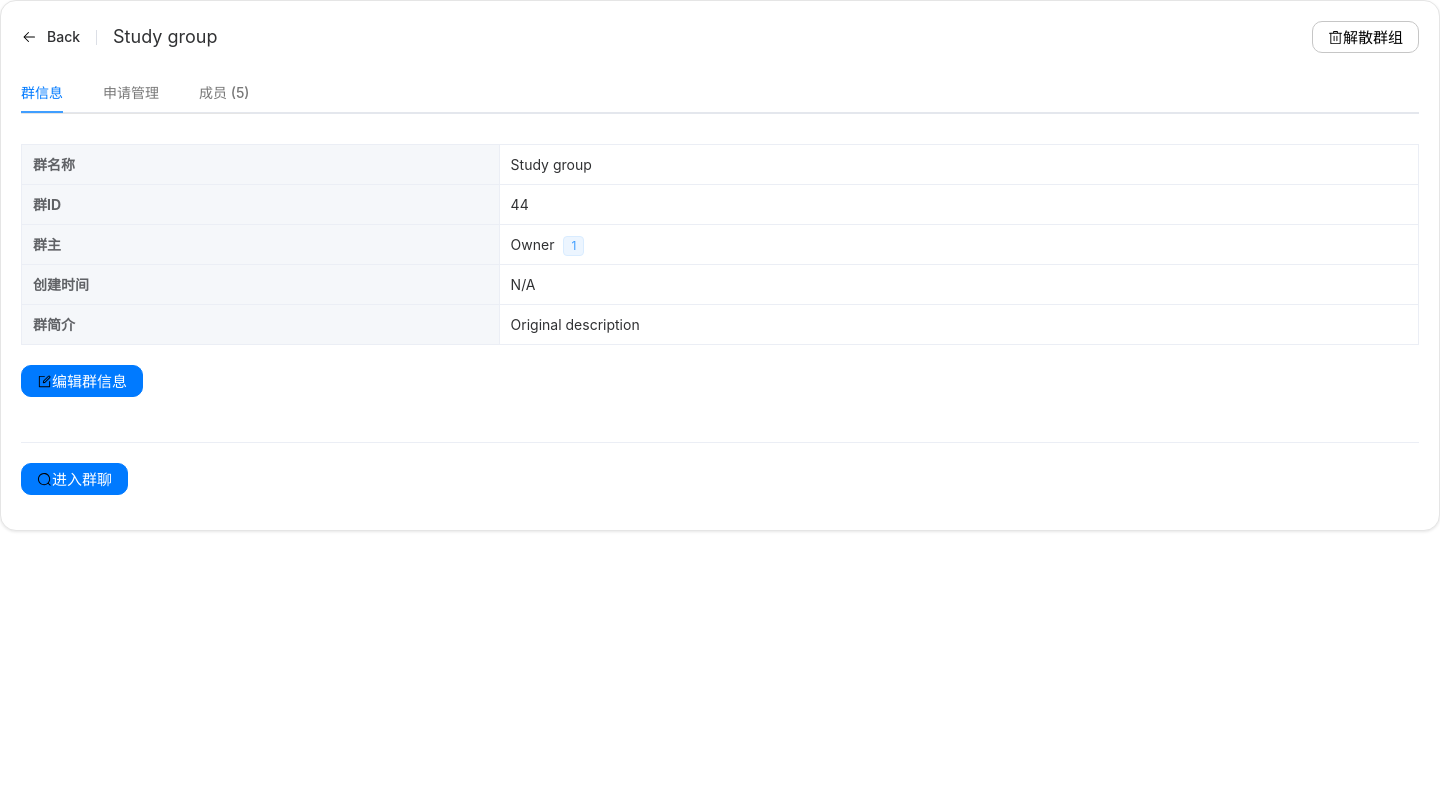
Test: group detail API contracts › loads, edits and submits groupDescription without losing the API field
This screenshot has width=1440, height=810.
Expected: the element with class "group-info-desc" shows "Original description", 511,316 -> 640,333
Click the button "编辑群信息". click: (82, 381)
box: 21,365 -> 143,397
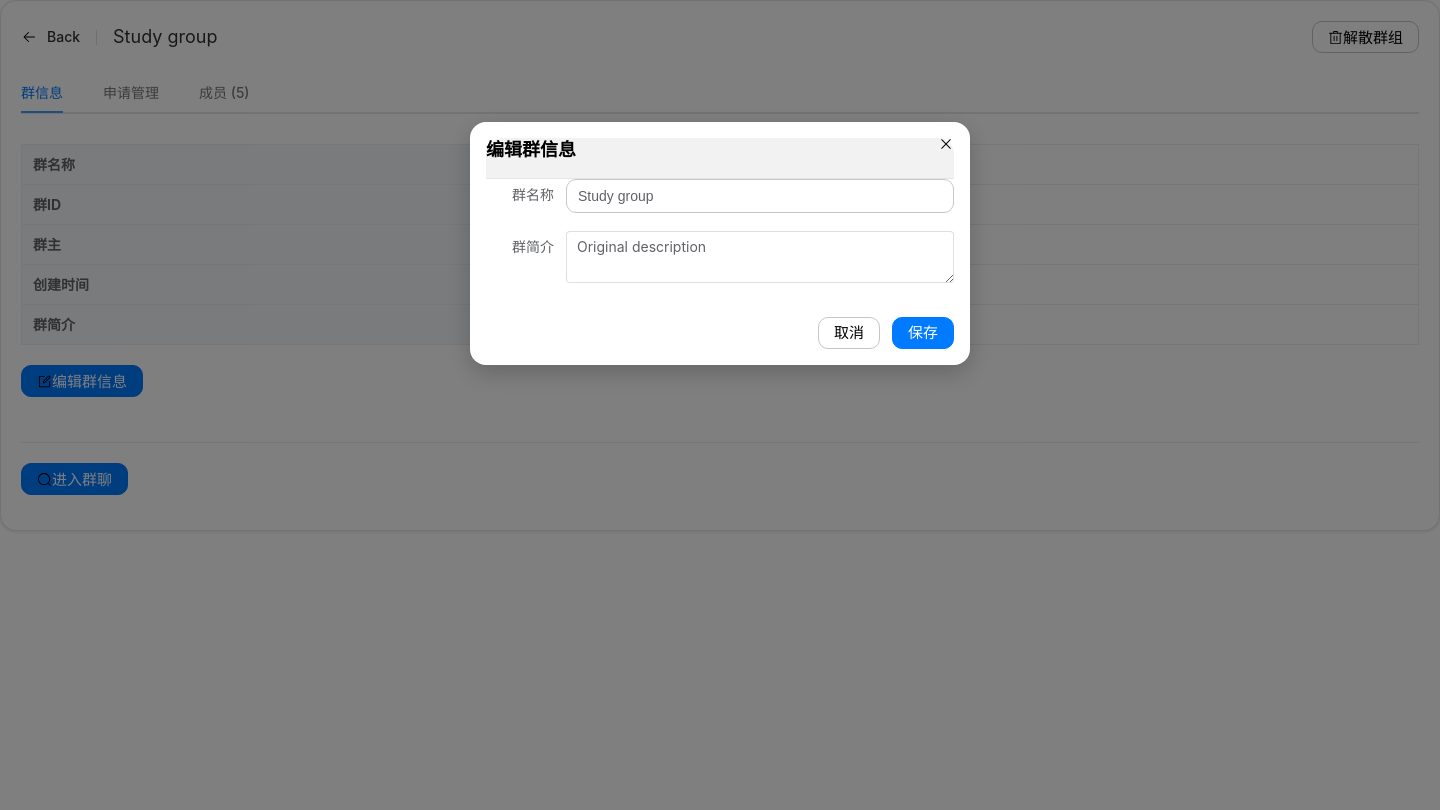
Expected: the text box labelled "群简介" holds "Original description", 566,230 -> 954,282
Replace the text in the field labelled "群名称" with "Updated study group". click: (760, 196)
box: 578,180 -> 942,210
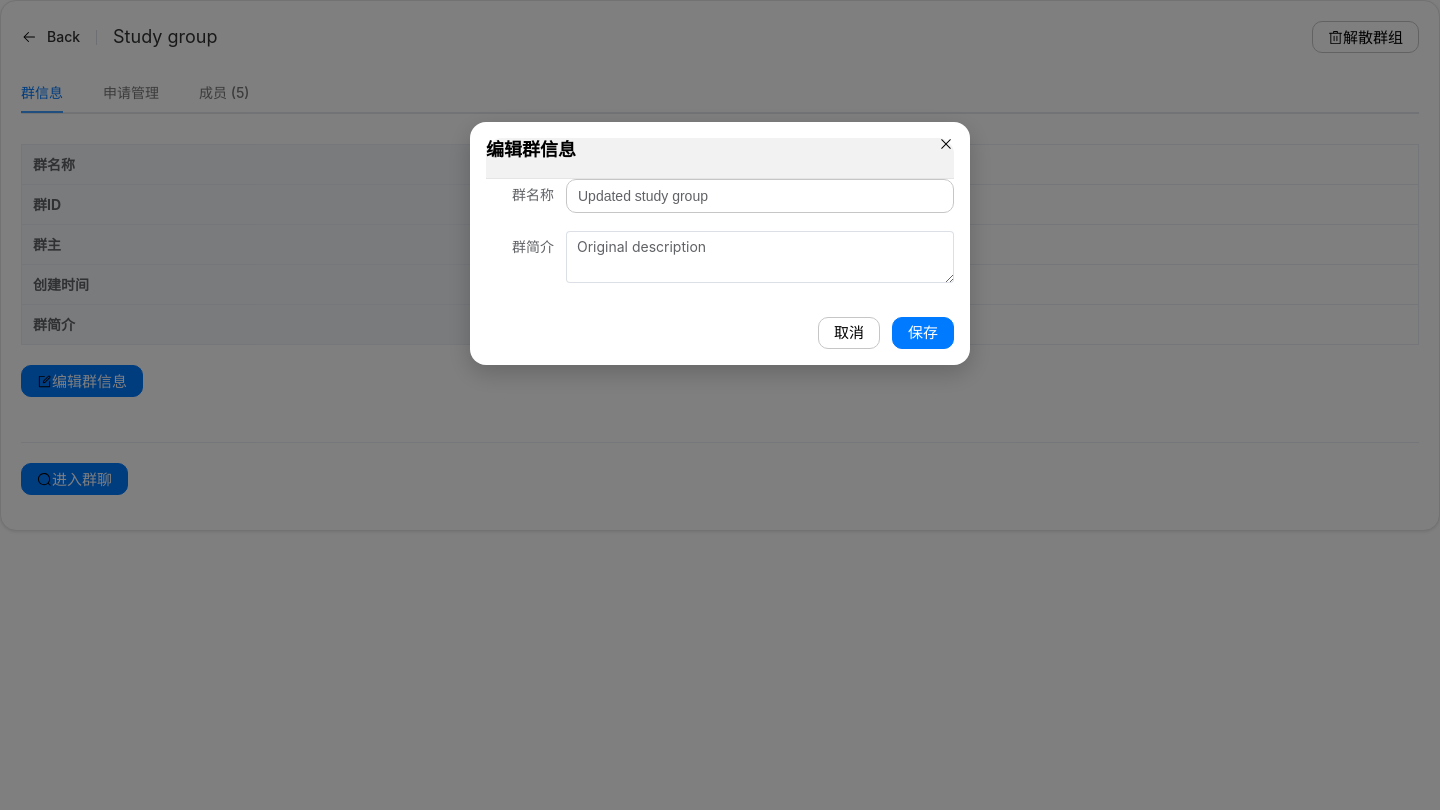
Replace the text in the text box labelled "群简介" with "Updated description". click: (760, 257)
box: 566,231 -> 954,283
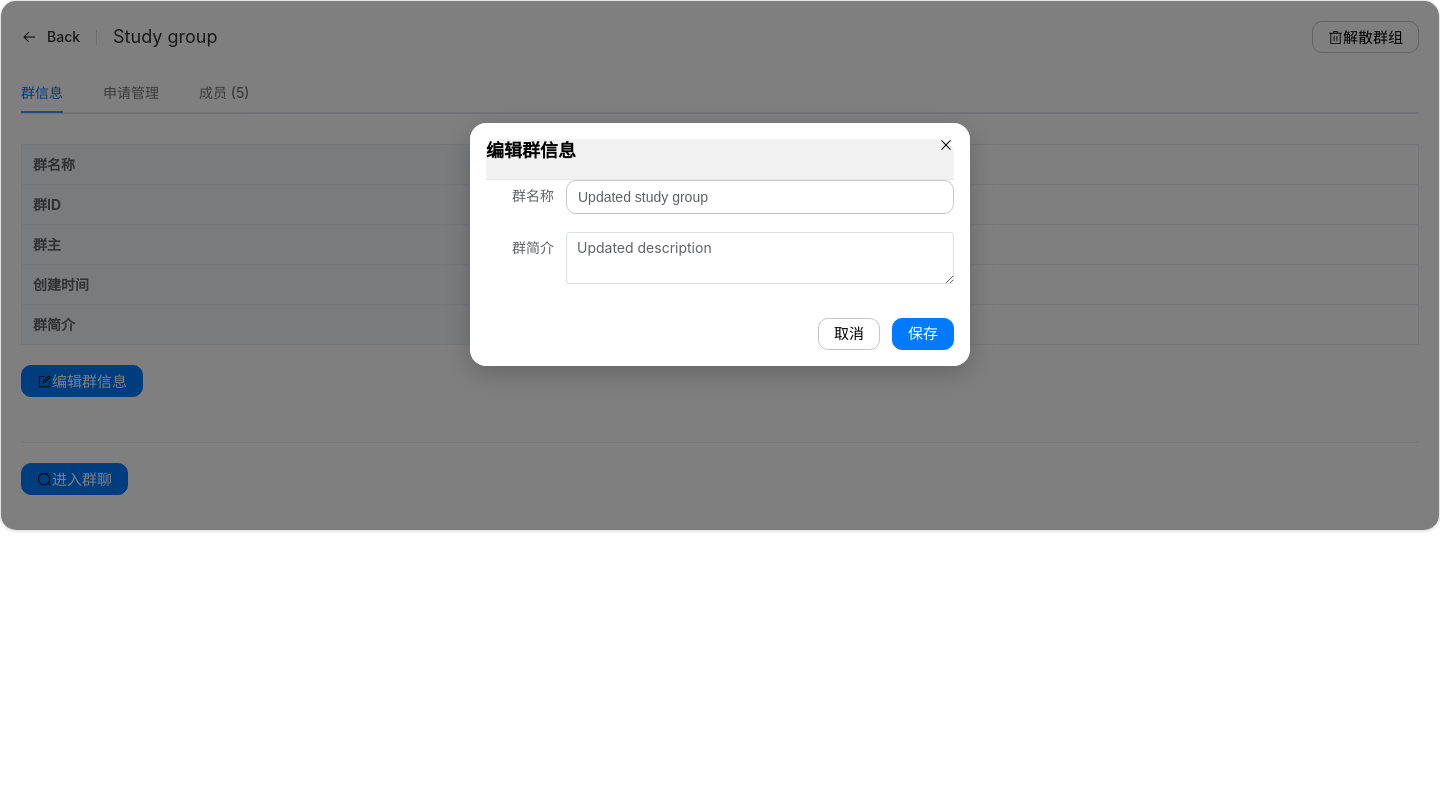
Click the button "保存". click: (923, 334)
box: 892,318 -> 954,350
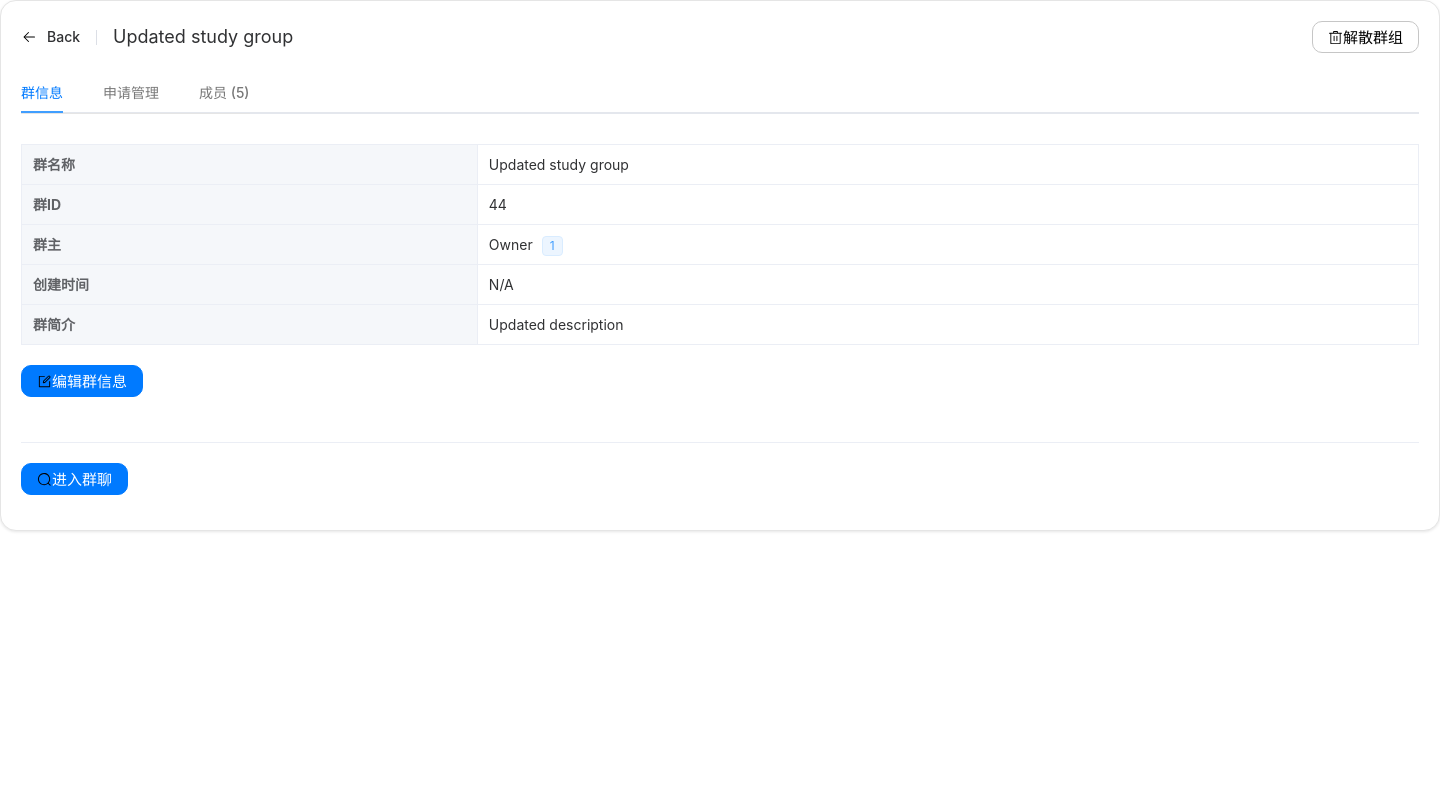
Expected: the element with class "group-info-desc" shows "Updated description", 489,316 -> 624,333
